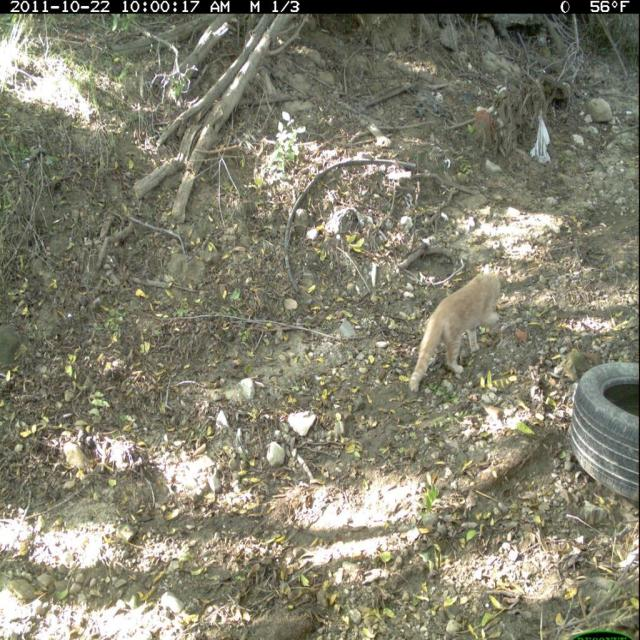cat: (402, 264, 526, 393)
